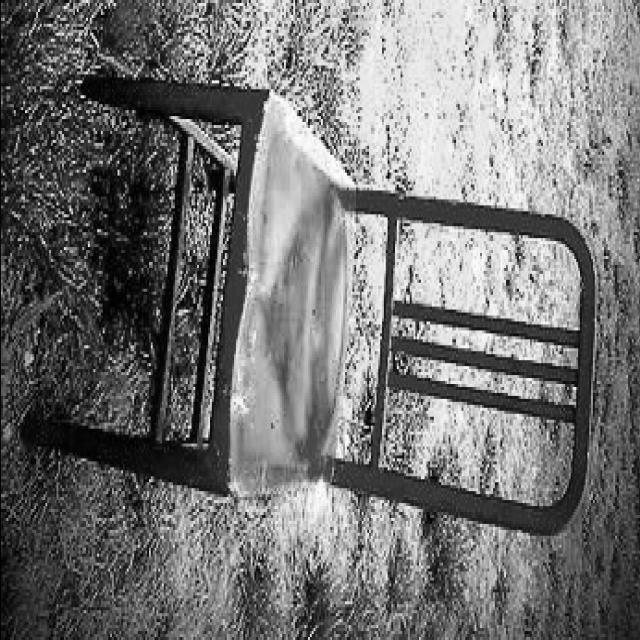chair: (19, 80, 599, 550)
